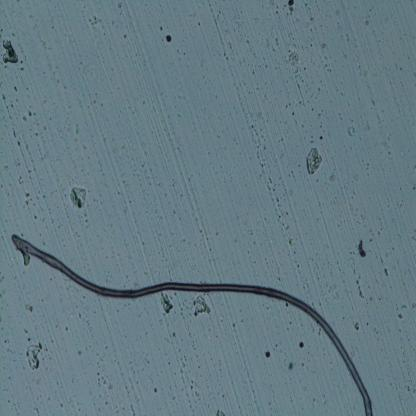Background material: (68, 179, 88, 213), (0, 38, 24, 66), (23, 342, 45, 370), (304, 147, 324, 177), (193, 296, 216, 320), (158, 291, 174, 316), (355, 236, 371, 260), (2, 93, 12, 118), (355, 278, 365, 300), (164, 31, 176, 44), (89, 15, 101, 28), (25, 188, 33, 206), (216, 405, 229, 416), (266, 0, 280, 10), (289, 51, 300, 63), (345, 126, 356, 138), (287, 0, 295, 16), (187, 379, 196, 391), (348, 249, 355, 262), (264, 348, 272, 359), (18, 174, 25, 186), (287, 358, 294, 370), (14, 155, 21, 167), (329, 282, 337, 292), (26, 302, 34, 312), (296, 72, 304, 82), (5, 348, 15, 356), (405, 382, 411, 394), (130, 402, 135, 416), (90, 96, 97, 106), (383, 266, 389, 277), (275, 196, 281, 207), (32, 406, 40, 414), (2, 336, 10, 344), (27, 106, 33, 116), (354, 321, 360, 331), (22, 113, 28, 123), (297, 82, 302, 94), (41, 41, 47, 50), (124, 386, 129, 396), (365, 161, 370, 171), (62, 187, 67, 197), (0, 274, 5, 284), (152, 387, 159, 394), (401, 302, 408, 309), (267, 176, 274, 183), (308, 16, 314, 24), (330, 174, 336, 182), (396, 312, 404, 318), (299, 341, 305, 349), (22, 326, 28, 334), (49, 216, 55, 224), (378, 254, 383, 263), (274, 37, 279, 46), (101, 376, 106, 385), (363, 124, 370, 130), (158, 24, 164, 31), (266, 184, 272, 191), (318, 134, 323, 142), (290, 236, 294, 246), (358, 65, 362, 75), (97, 377, 101, 387), (338, 113, 344, 119), (170, 331, 176, 337), (42, 99, 48, 105), (76, 350, 82, 356), (2, 63, 8, 69), (256, 149, 260, 158), (64, 325, 69, 332), (244, 38, 249, 45), (352, 267, 356, 275), (2, 165, 8, 170), (181, 362, 186, 368), (304, 2, 309, 8), (16, 140, 21, 146), (225, 55, 230, 61), (251, 68, 256, 74), (13, 86, 18, 92), (18, 66, 24, 71), (326, 68, 332, 73), (184, 355, 188, 362), (318, 328, 322, 335), (43, 123, 47, 130), (318, 300, 322, 307), (290, 170, 294, 177), (13, 128, 16, 137), (346, 32, 349, 41), (93, 91, 98, 96), (411, 303, 416, 308), (27, 170, 32, 175), (279, 221, 284, 226), (222, 52, 227, 57), (34, 131, 39, 136), (232, 137, 237, 142), (323, 63, 328, 68), (322, 42, 326, 48), (318, 85, 321, 93), (42, 240, 46, 246), (280, 135, 284, 141), (44, 153, 48, 159), (274, 342, 278, 348), (104, 277, 108, 283), (365, 20, 369, 26), (45, 344, 48, 352), (86, 319, 90, 325), (272, 45, 275, 53), (33, 213, 37, 219), (260, 162, 264, 168), (60, 403, 64, 409), (285, 210, 289, 216), (77, 123, 79, 134), (280, 152, 283, 159), (85, 218, 89, 223), (66, 127, 70, 132), (42, 194, 46, 199), (295, 68, 299, 73), (319, 122, 323, 127), (300, 123, 305, 127), (36, 379, 40, 384), (121, 145, 125, 150), (271, 187, 275, 192), (110, 20, 115, 24), (79, 314, 82, 320), (110, 384, 113, 390), (233, 26, 236, 32), (48, 65, 51, 71), (263, 144, 266, 150), (310, 140, 314, 144), (32, 167, 36, 171), (386, 151, 390, 155), (172, 210, 176, 214), (96, 372, 100, 376), (283, 4, 287, 8), (27, 338, 31, 342), (98, 408, 101, 413), (303, 66, 306, 71), (10, 103, 13, 108), (366, 321, 369, 326), (105, 400, 108, 405), (49, 277, 52, 282), (82, 295, 85, 299), (292, 112, 295, 116), (182, 192, 184, 198), (275, 10, 278, 14), (7, 400, 10, 404), (8, 374, 10, 380), (288, 102, 292, 105), (399, 66, 402, 70), (389, 80, 392, 84), (369, 8, 372, 12), (56, 79, 59, 83), (16, 96, 18, 102), (285, 104, 288, 108), (84, 213, 87, 217), (64, 85, 66, 90), (256, 87, 258, 92), (287, 225, 289, 230), (288, 172, 290, 177), (198, 21, 200, 26), (310, 43, 312, 48), (42, 217, 44, 222), (386, 253, 388, 258), (376, 330, 378, 335), (265, 63, 267, 68), (34, 110, 36, 115), (351, 119, 354, 122), (299, 101, 302, 104), (401, 83, 404, 86), (97, 362, 100, 365), (367, 14, 369, 18), (257, 145, 259, 149), (279, 214, 281, 218), (0, 28, 4, 30), (197, 365, 199, 369), (193, 346, 195, 350), (407, 165, 409, 169), (12, 32, 14, 36), (250, 126, 254, 128), (124, 34, 126, 38), (279, 177, 281, 181), (312, 108, 314, 112), (101, 103, 103, 106), (48, 398, 50, 401), (319, 113, 321, 116), (278, 140, 280, 143), (321, 109, 323, 112), (414, 187, 415, 191), (298, 165, 300, 167)
Microfibre: (10, 231, 375, 414)
